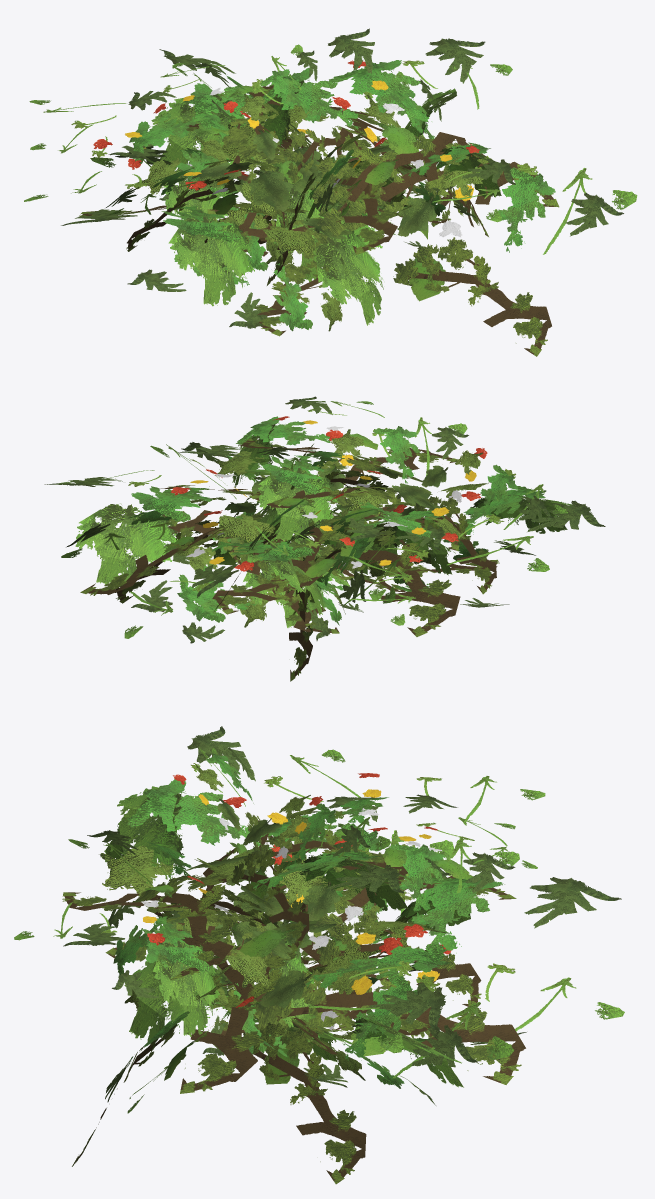
File: Buisson_004.fbx
The picture shows the model from 3 angles, top to bottom: view 1: azimuth 30°, elevation 25°; view 2: azimuth 150°, elevation 25°; view 3: azimuth 270°, elevation 25°; orthographic projection. The views are drawn at different scales.
Visible parts, largest first — view 1: Buisson_004; view 2: Buisson_004; view 3: Buisson_004.
Boxes of the visible parts, x1,y1,x2,y2 form: Buisson_004: (24, 28, 637, 356); Buisson_004: (44, 396, 605, 681); Buisson_004: (14, 726, 624, 1184).
Size of the model in its own units: 4.5 by 1.88 by 3.75.
